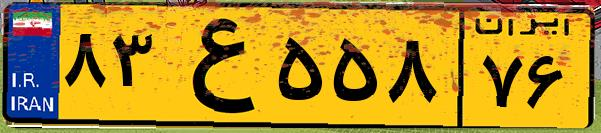3: (110, 28, 158, 98)
5: (270, 28, 330, 110), (330, 28, 385, 110)
6: (525, 38, 570, 115)
7: (475, 38, 525, 113)
8: (385, 28, 445, 110), (57, 26, 110, 100)
ع: (158, 12, 270, 120)
